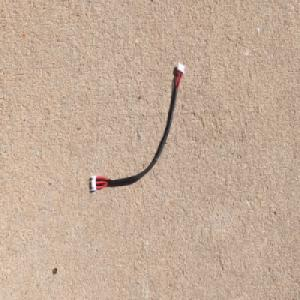Wire: (91, 61, 188, 195)
